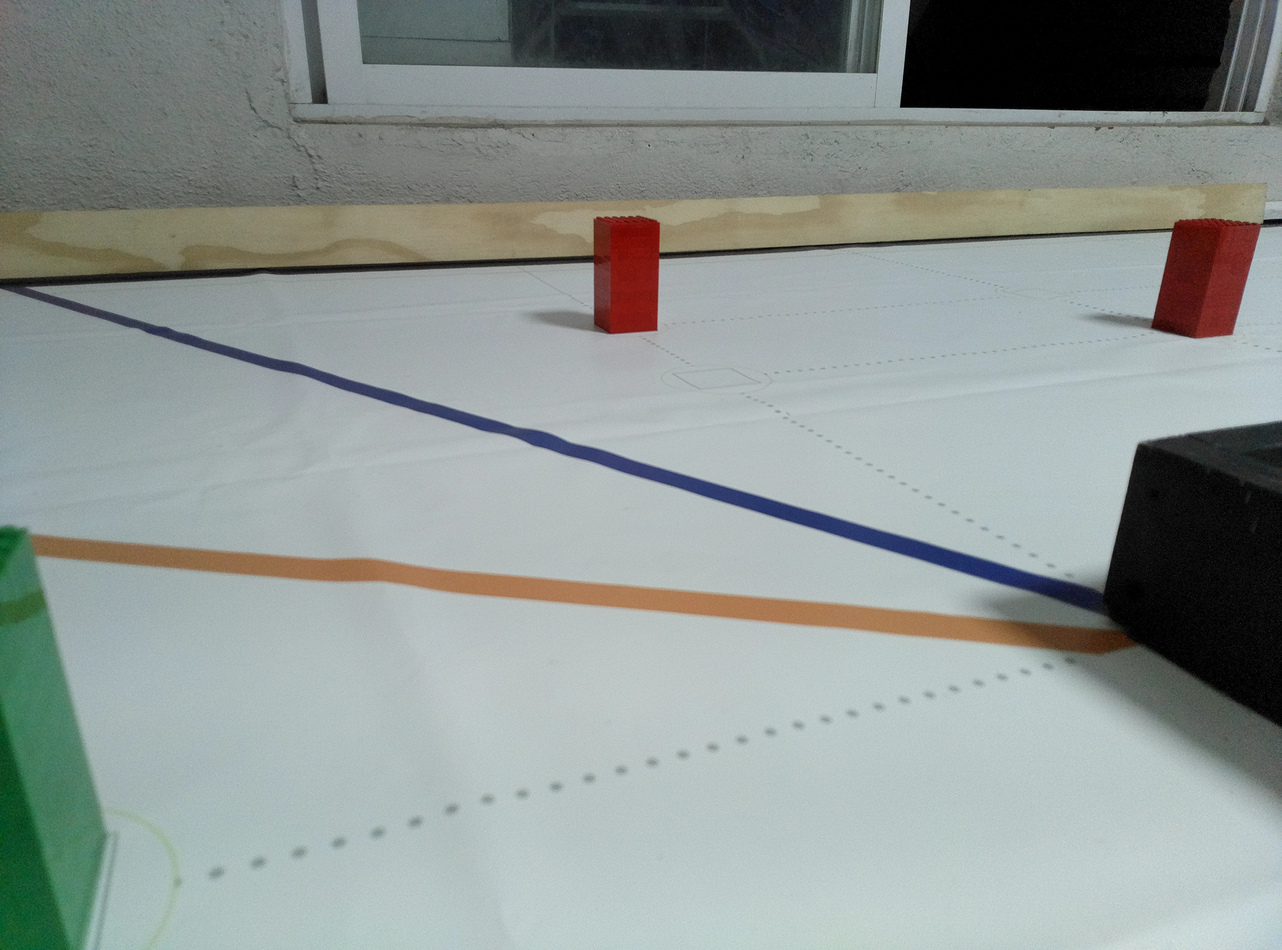greenbox: (0, 521, 108, 950)
redbox: (1147, 217, 1261, 339), (592, 216, 661, 335)
